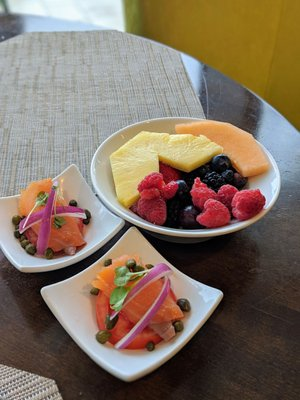sushi: (39, 228, 224, 382), (89, 116, 281, 243), (0, 164, 126, 273)
